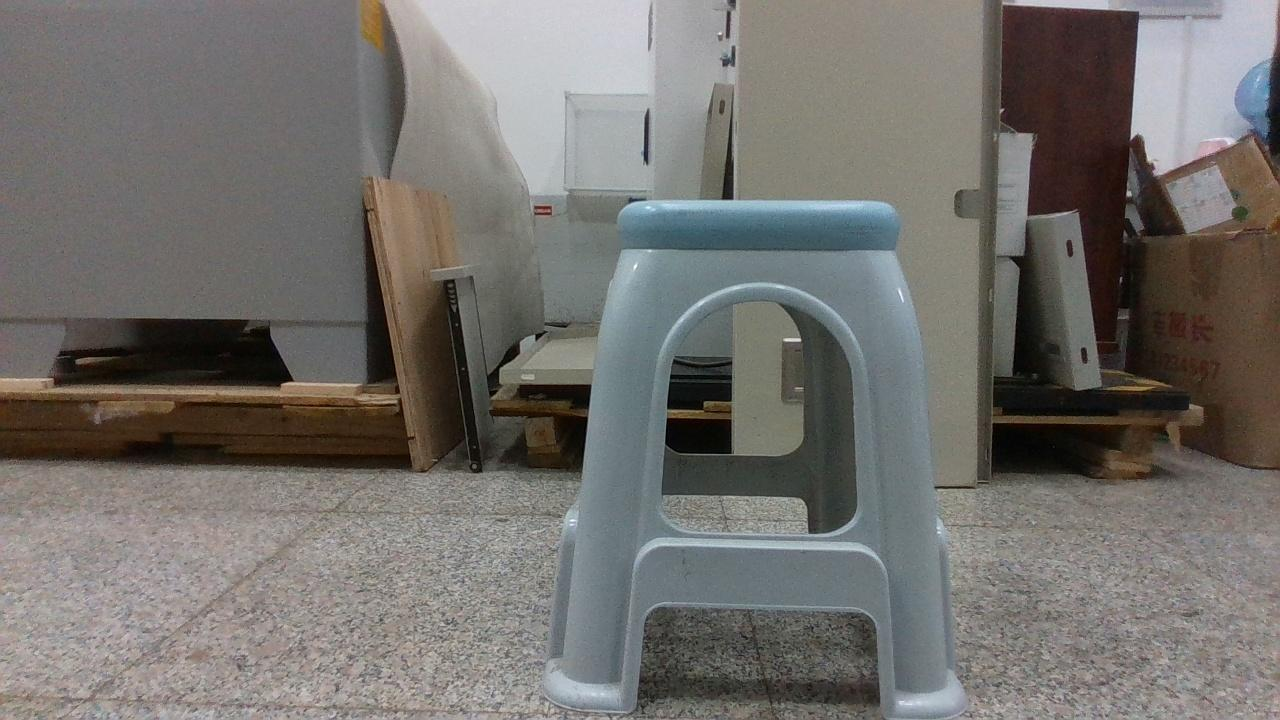stool: (542, 200, 968, 718)
